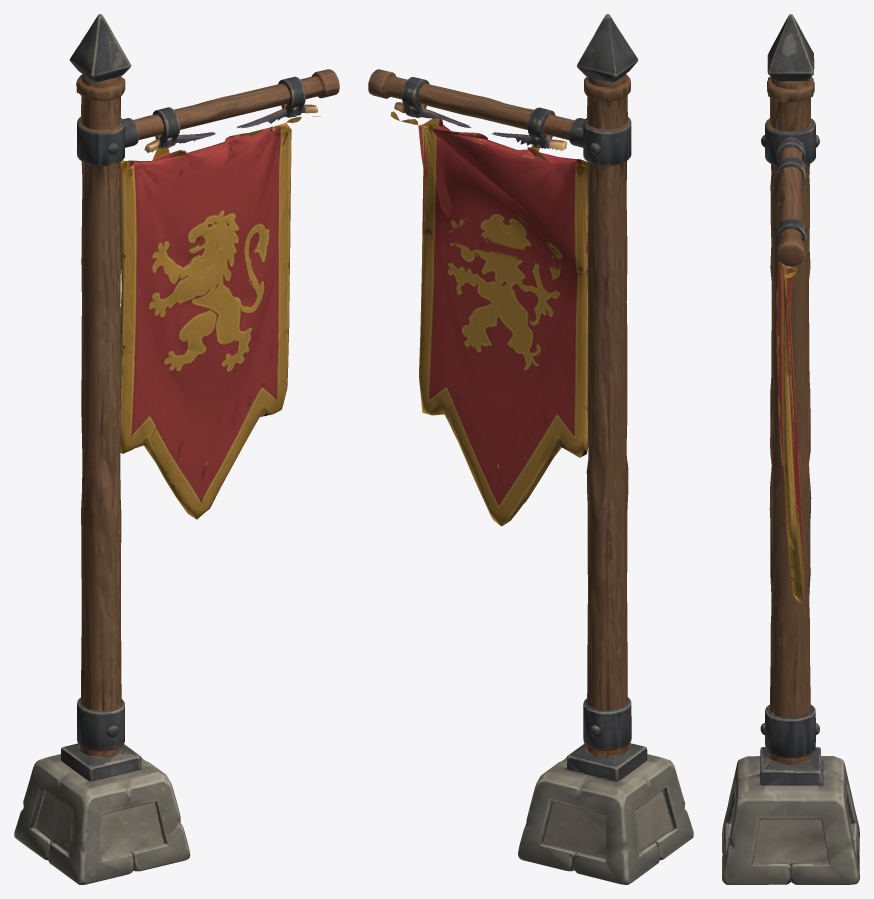
The model's file is BannerPoleLion.glb.
3 renders of one model, left to right at view 1: azimuth 30°, elevation 25°; view 2: azimuth 150°, elevation 25°; view 3: azimuth 270°, elevation 25°, orthographic.
Parts seen in each view (by area): view 1: BannerPoleLion; view 2: BannerPoleLion; view 3: BannerPoleLion.
Boxes of the visible parts, <box> form: BannerPoleLion: <box>14,14,339,884</box>; BannerPoleLion: <box>368,14,693,884</box>; BannerPoleLion: <box>722,14,859,884</box>.
Size of the model in its own units: 1.13 by 3.12 by 0.4622.
2 materials, 2 textured.
